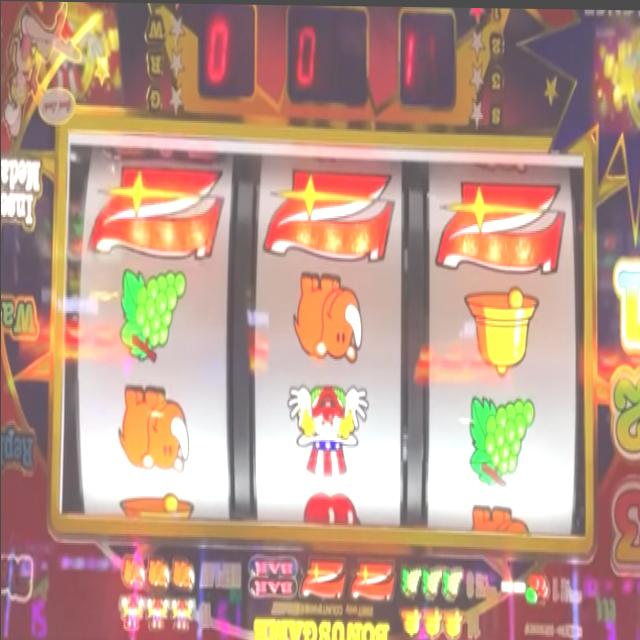bar: (245, 550, 298, 600)
bell: (462, 280, 538, 377), (118, 490, 196, 523), (440, 605, 464, 640), (398, 604, 420, 640), (421, 602, 439, 640)
cherry: (300, 490, 360, 529), (524, 568, 550, 608)
clown: (286, 380, 368, 482), (117, 592, 143, 632), (170, 592, 194, 633), (146, 593, 168, 633)
display: (63, 134, 587, 537)
elephant: (116, 381, 190, 480), (290, 270, 364, 364), (468, 502, 530, 533), (146, 554, 170, 594), (120, 553, 144, 590), (171, 556, 194, 590)
grape: (468, 386, 534, 490), (118, 264, 186, 363), (440, 564, 464, 596), (420, 564, 440, 600), (400, 565, 420, 597)
z: (86, 159, 224, 262), (262, 163, 396, 267), (433, 172, 565, 277), (349, 557, 394, 605), (300, 553, 344, 602)
